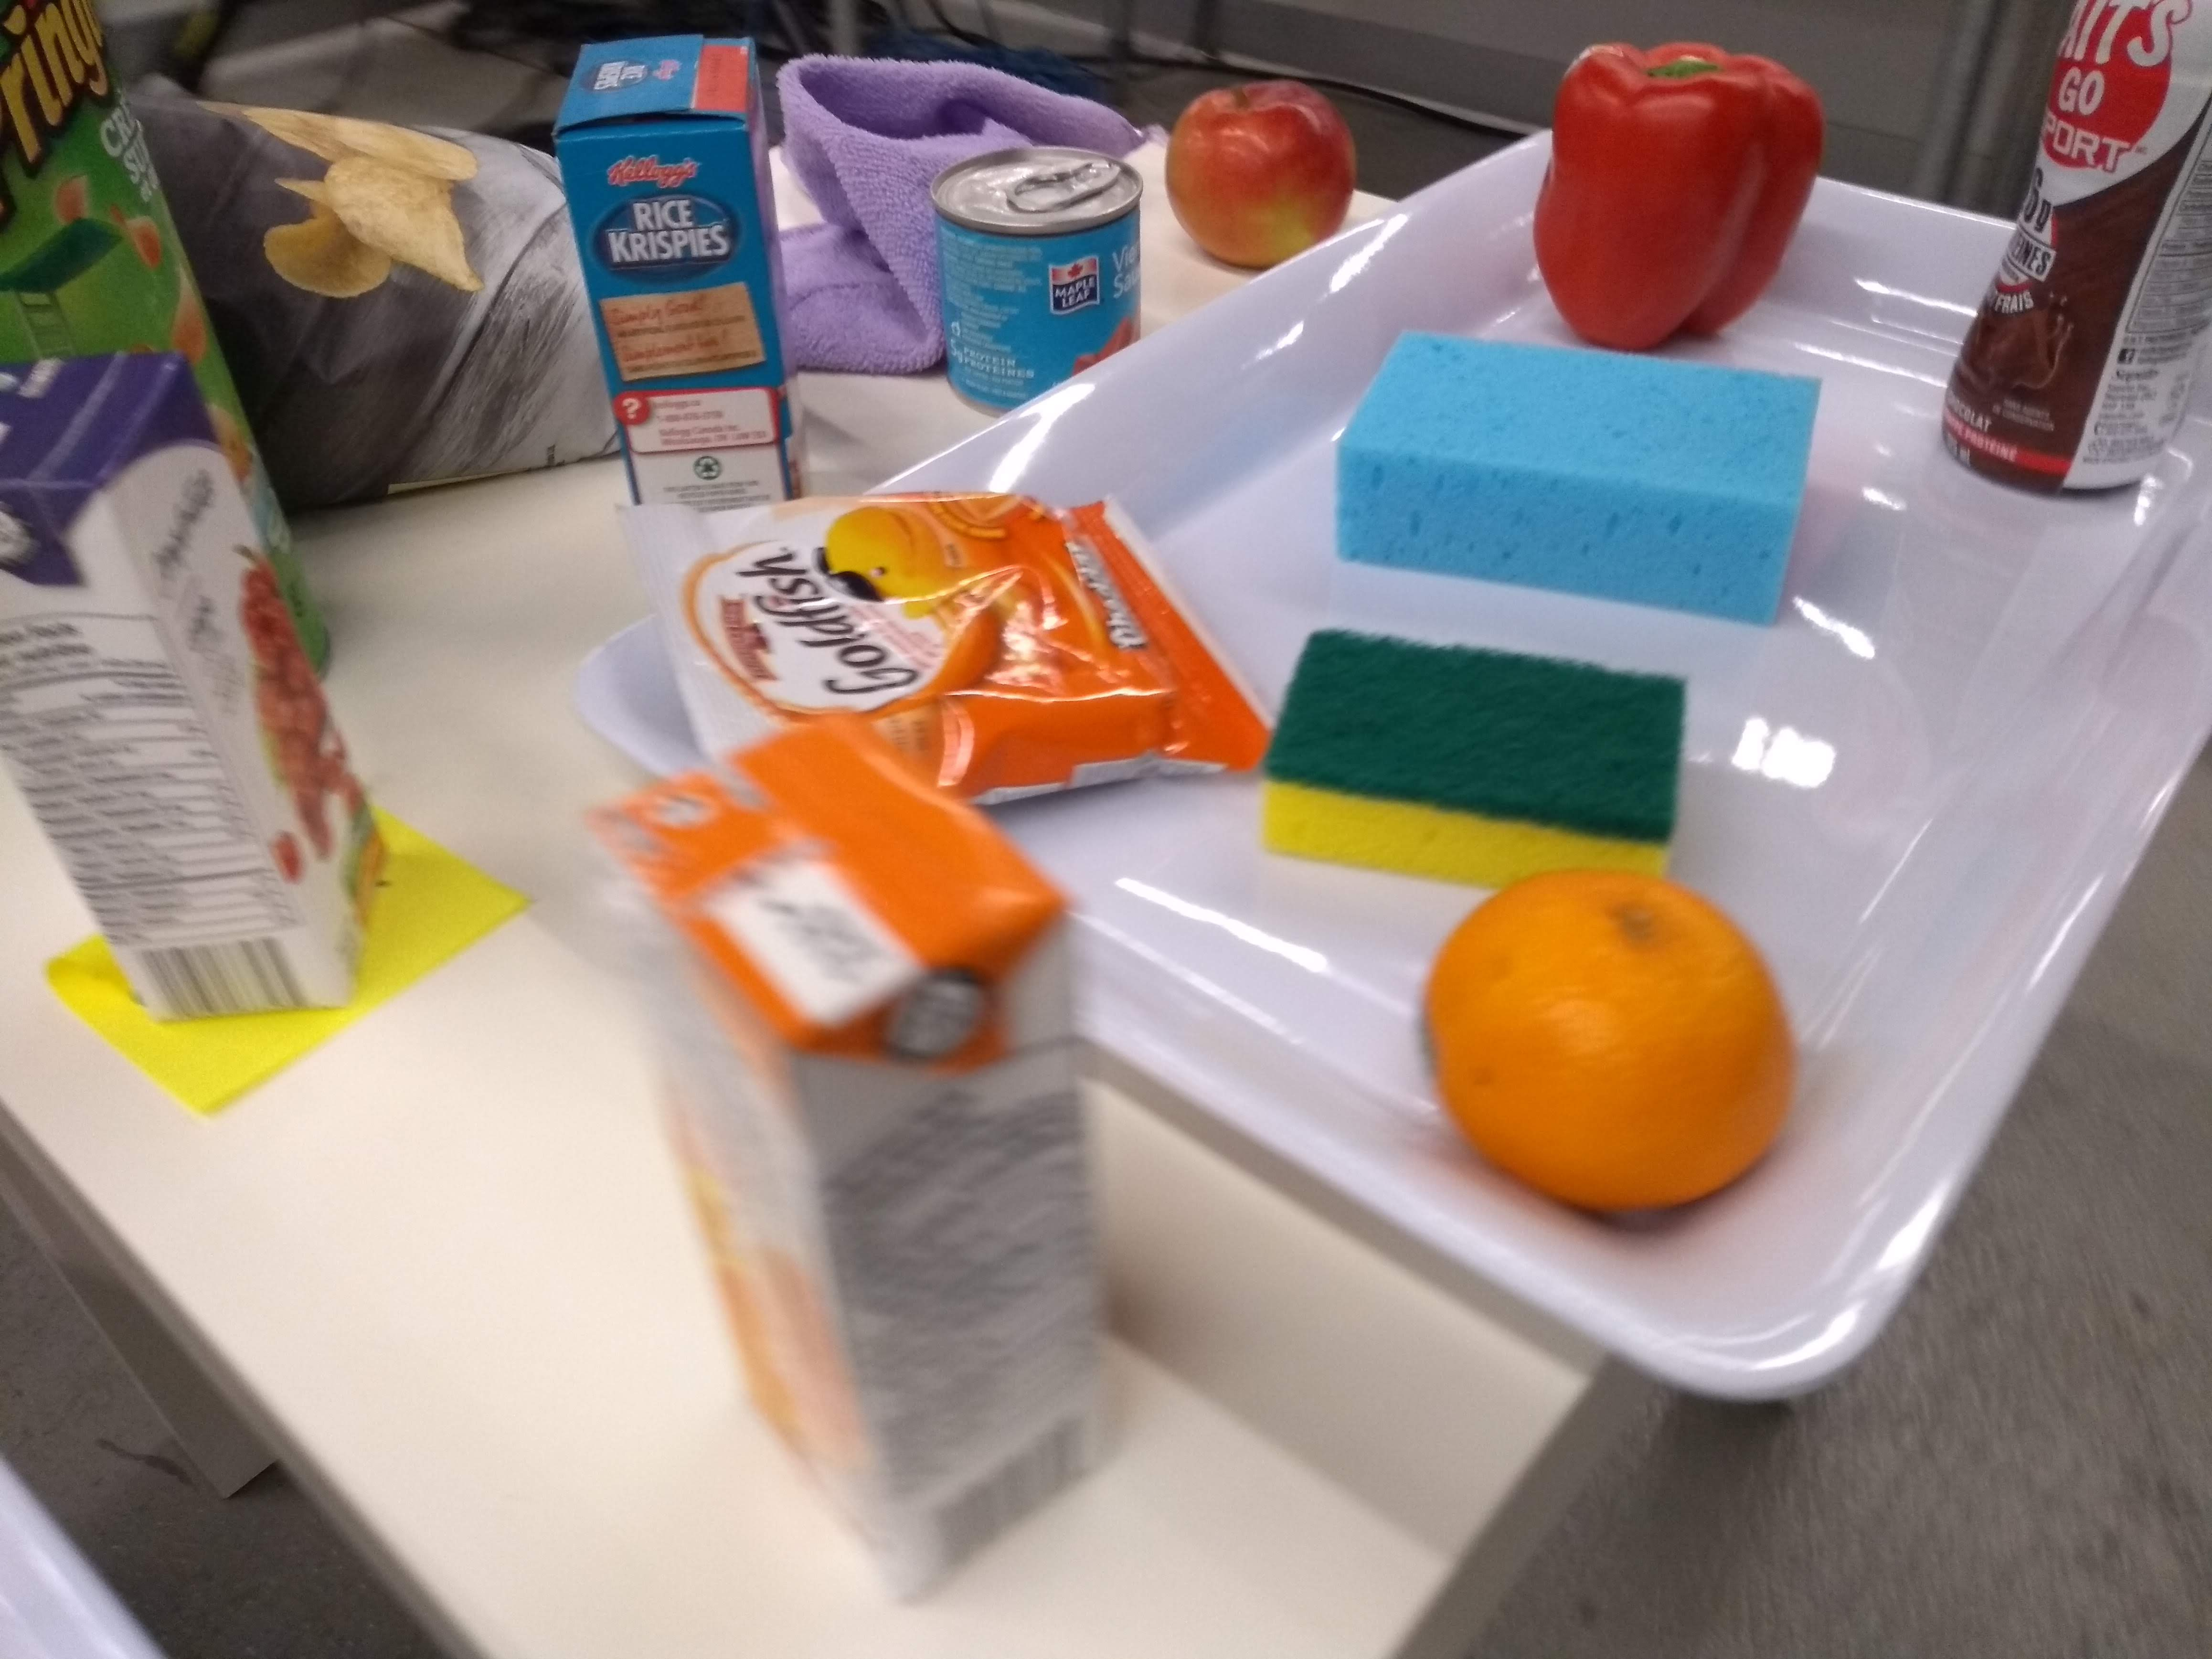apple: (1163, 66, 1362, 275)
cereal: (545, 24, 824, 523)
crackers: (636, 486, 1277, 821)
orange: (1413, 854, 1815, 1236)
orange_juice: (587, 701, 1134, 1626)
paprika: (1519, 30, 1834, 364)
sausages: (920, 136, 1158, 430)
scrubby: (1251, 619, 1698, 903)
sponge_opl: (1322, 319, 1836, 634)
